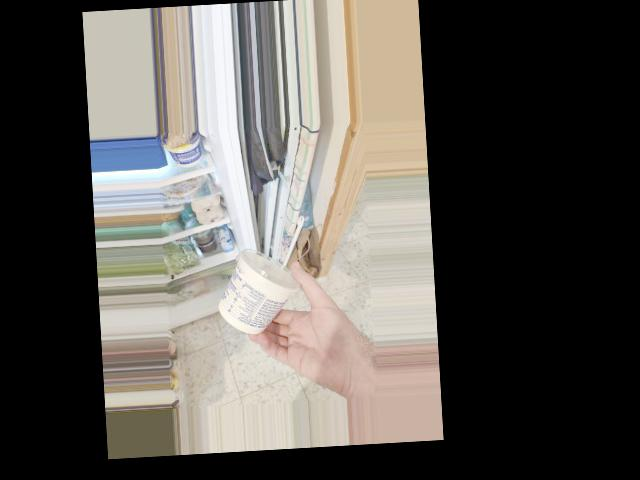cotage: (217, 241, 302, 324)
